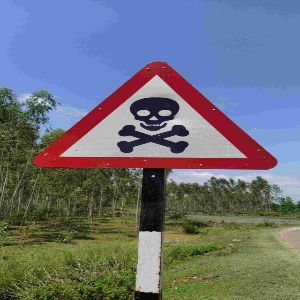Accident prone area: (27, 51, 294, 186)
